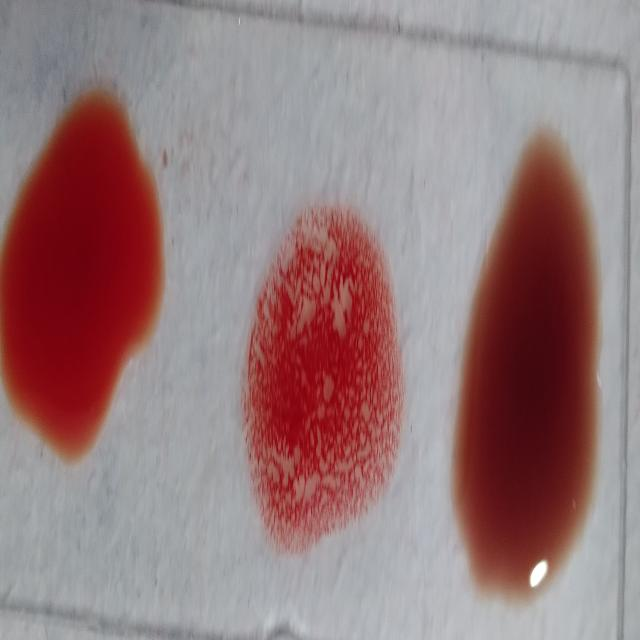D: (245, 214, 405, 543)
